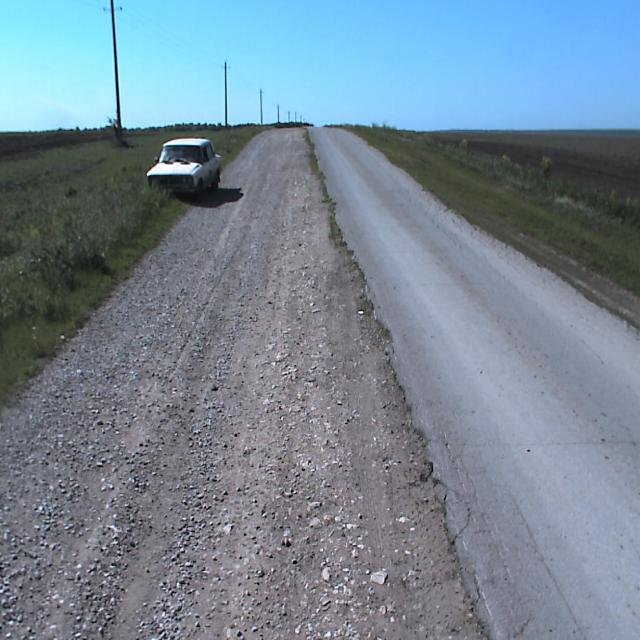road: (304, 127, 639, 639)
